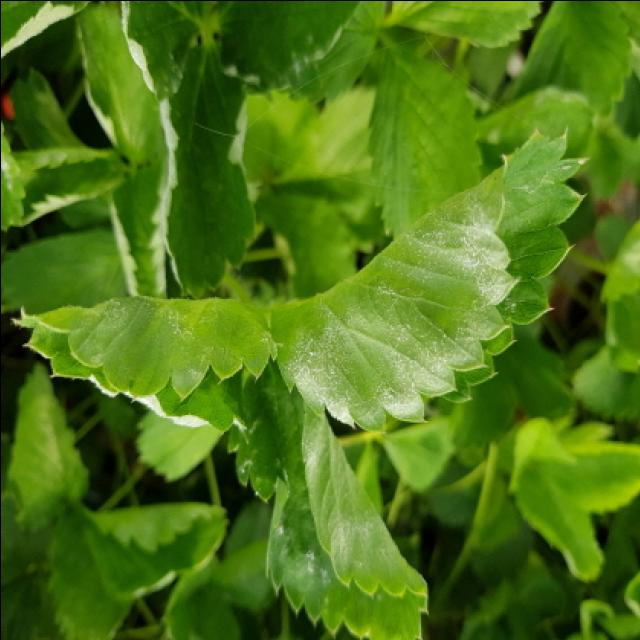Powdery Mildew Leaf: (268, 121, 591, 433), (224, 361, 430, 640), (11, 291, 279, 431), (156, 39, 255, 300), (205, 2, 364, 95), (120, 2, 208, 97)
